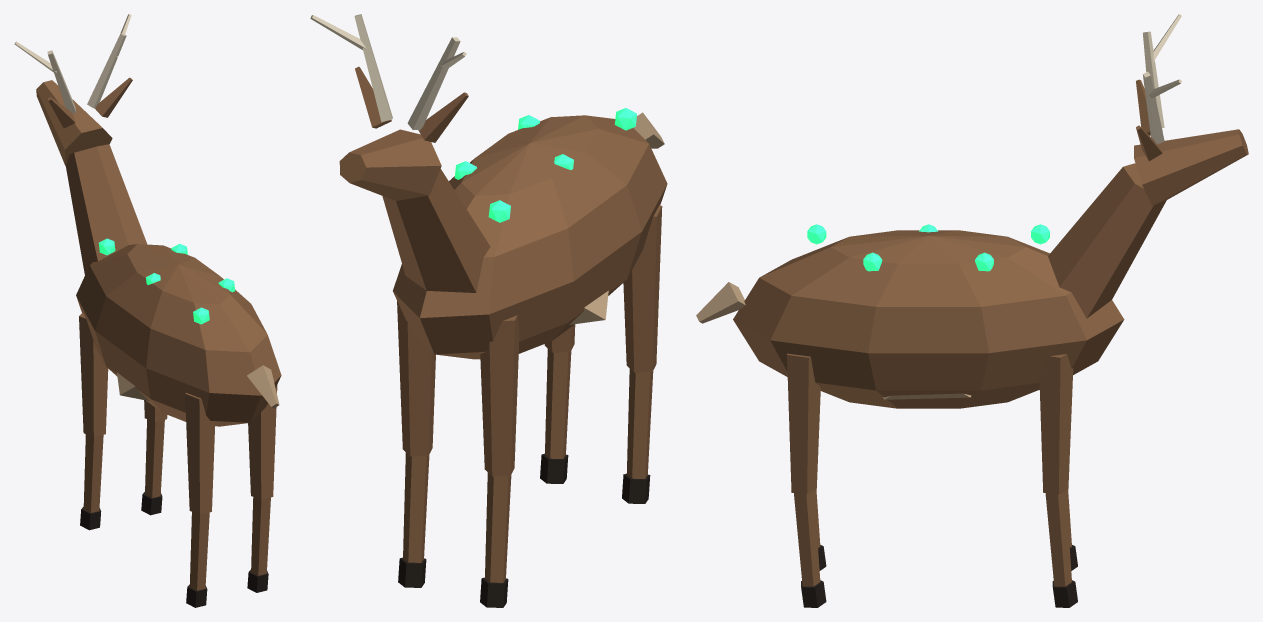
The model's file is deer.glb.
The picture shows the model from 3 angles, left to right: view 1: azimuth 30°, elevation 25°; view 2: azimuth 150°, elevation 25°; view 3: azimuth 270°, elevation 25°; orthographic projection. The views are drawn at different scales.
Parts seen in each view (by area): view 1: Body, Head, Leg_BL, Leg_FL, Leg_BR, Leg_FR; view 2: Body, Head, Leg_FL, Leg_BL, Leg_FR, Leg_BR; view 3: Body, Head, Leg_FR, Leg_BR.
Boxes of the visible parts, x1,y1,x2,y2 form: Body: (65,144,281,426); Head: (14,14,132,165); Leg_BL: (185,393,215,607); Leg_FL: (79,312,108,530); Leg_BR: (247,385,277,592); Leg_FR: (141,400,167,515); Body: (382,108,667,359); Head: (310,14,468,200); Leg_FL: (480,315,519,607); Leg_BL: (622,205,662,503); Leg_FR: (397,301,435,587); Leg_BR: (540,324,575,483); Body: (696,163,1166,408); Head: (1134,14,1248,205); Leg_FR: (1039,354,1077,607); Leg_BR: (787,353,826,607).
Bounding box in the file's own units: 0.5706 × 2.13 × 1.98.
